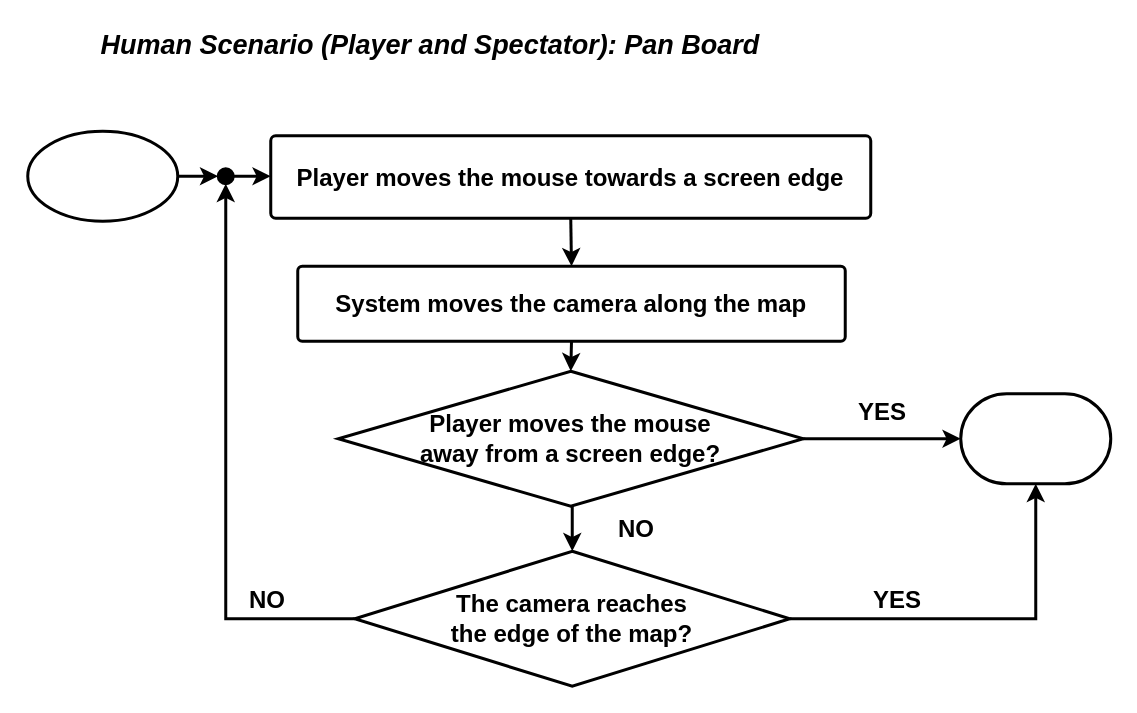
Image size: 1137x713. Some labels were removed from this diagram. The shapes that lost their labels are listed below. From the top down, each one's centre as x and y in pixels, then its label:
At point (102, 175): "START".
At point (1035, 438): "END".
